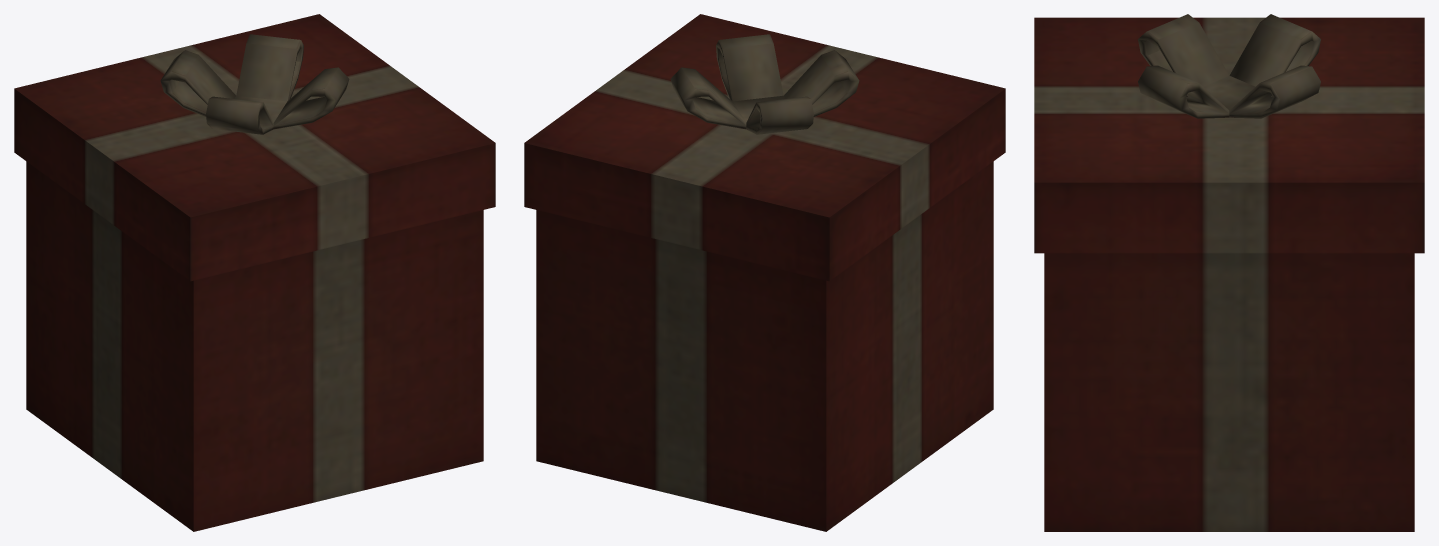
The model's file is gift_box_mx_1.obj.
3 views of the same model, side by side, from view 1: azimuth 30°, elevation 25°; view 2: azimuth 150°, elevation 25°; view 3: azimuth 270°, elevation 25° (orthographic). The views are drawn at different scales.
Visible parts, largest first — view 1: gift_box_mx_1; view 2: gift_box_mx_1; view 3: gift_box_mx_1.
Boxes of the visible parts, x1,y1,x2,y2 form: gift_box_mx_1: (14,14,495,531); gift_box_mx_1: (524,14,1005,531); gift_box_mx_1: (1034,14,1424,531).
Bounding box in the file's own units: 0.2 × 0.229 × 0.2.
